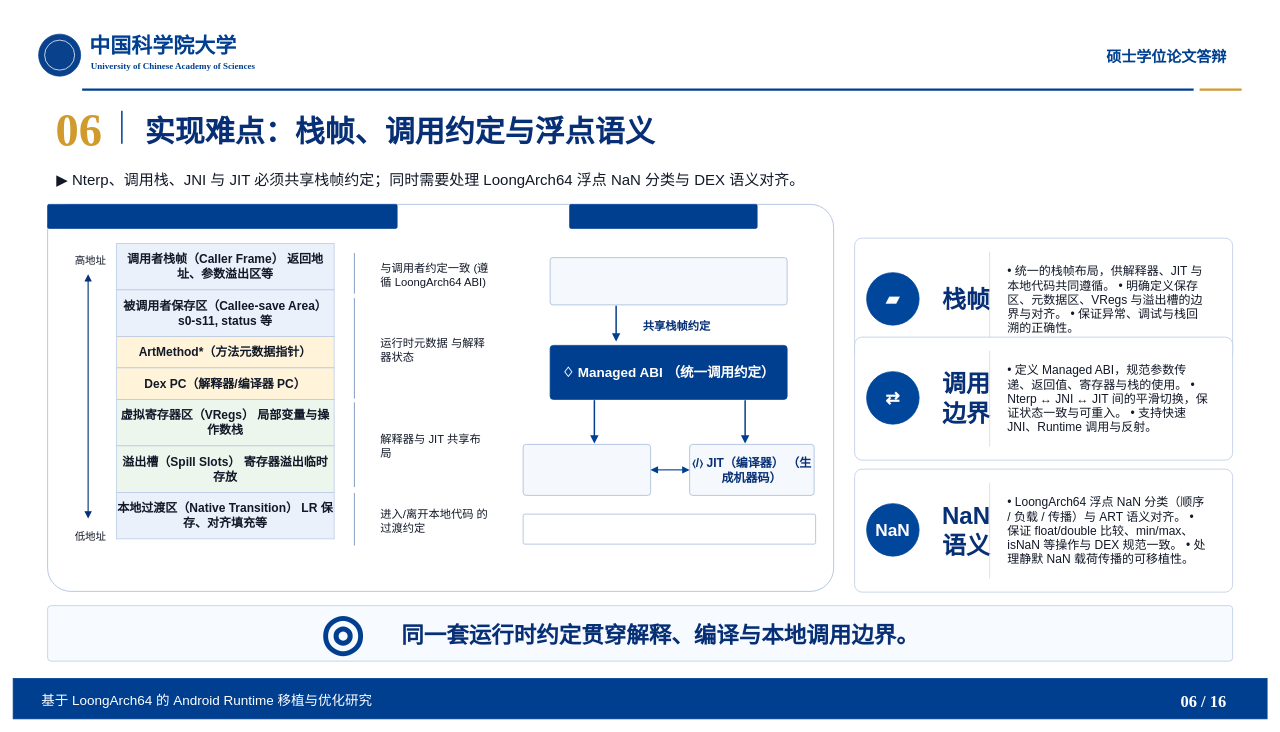
This 1280x732 diagram has some shape labels left out. The box of each missing label's shape, as (x1, y1, x2, y2) in pixels:
LoongArch64 运行时栈帧布局（从高地址 → 低地址）: (47, 204, 397, 228)
UCAS: (44, 39, 75, 70)
⚙ Nterp（解释器）: (549, 257, 787, 305)
✓ 栈帧布局、寄存器保存、参数传递、返回规则完全一致: (522, 513, 816, 544)
✣ JNI / Runtime （本地代码）: (522, 444, 651, 495)
执行实体间的栈帧一致性: (569, 204, 757, 228)
